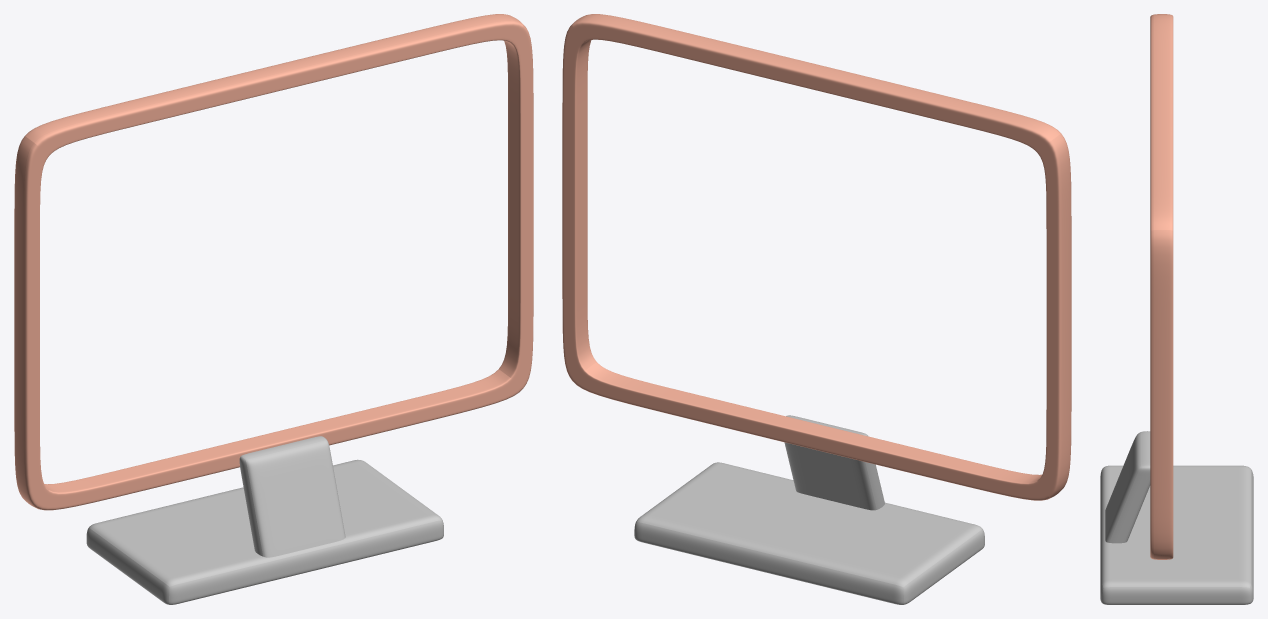
Rendered from monitor6.glb.
The picture shows the model from 3 angles, left to right: view 1: azimuth 30°, elevation 25°; view 2: azimuth 150°, elevation 25°; view 3: azimuth 270°, elevation 25°; orthographic projection. The views are drawn at different scales.
Parts seen in each view (by area): view 1: ToBlenderMonitor.006; view 2: ToBlenderMonitor.006; view 3: ToBlenderMonitor.006.
Boxes of the visible parts, x1,y1,x2,y2 form: ToBlenderMonitor.006: (14,14,533,604); ToBlenderMonitor.006: (562,14,1071,604); ToBlenderMonitor.006: (1100,14,1253,604).
Bounding box in the file's own units: 7.29 × 6.55 × 2.11.
